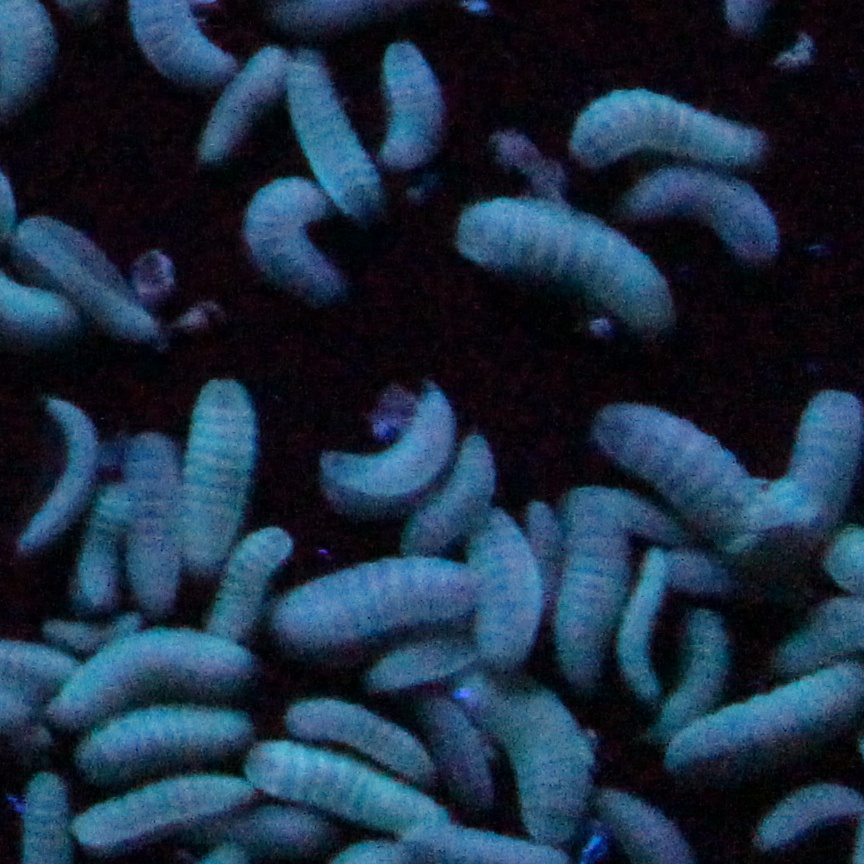larve: (587, 395, 807, 598), (452, 202, 700, 340), (0, 196, 176, 353), (449, 662, 589, 838), (249, 738, 461, 840), (269, 551, 476, 653), (749, 369, 860, 544), (607, 167, 785, 276), (278, 51, 389, 216), (50, 635, 254, 720), (170, 380, 260, 567), (232, 173, 345, 307), (334, 384, 456, 504), (550, 93, 774, 158), (74, 771, 256, 849), (641, 609, 738, 751), (80, 702, 260, 778), (552, 491, 616, 682), (289, 702, 438, 784), (192, 36, 285, 166), (120, 427, 183, 615), (365, 44, 460, 162), (396, 438, 492, 551), (610, 544, 678, 696), (200, 522, 285, 642), (478, 516, 543, 667), (69, 489, 130, 609), (370, 635, 496, 684)
